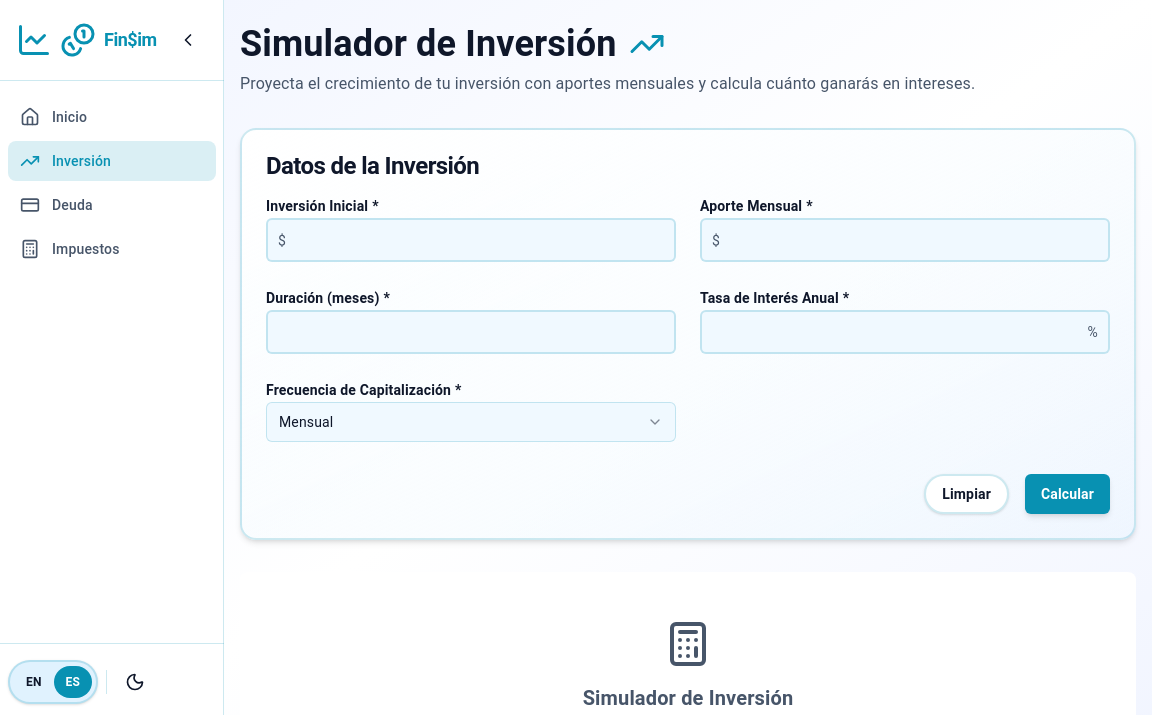
Test: Investment Flow Integration › shows results and breakdown after successful calculation
The width and height of the screenshot is (1152, 715).
Type "10000" into the number field labelled "Inversión Inicial*" at (471, 240), box 266,218 -> 676,262
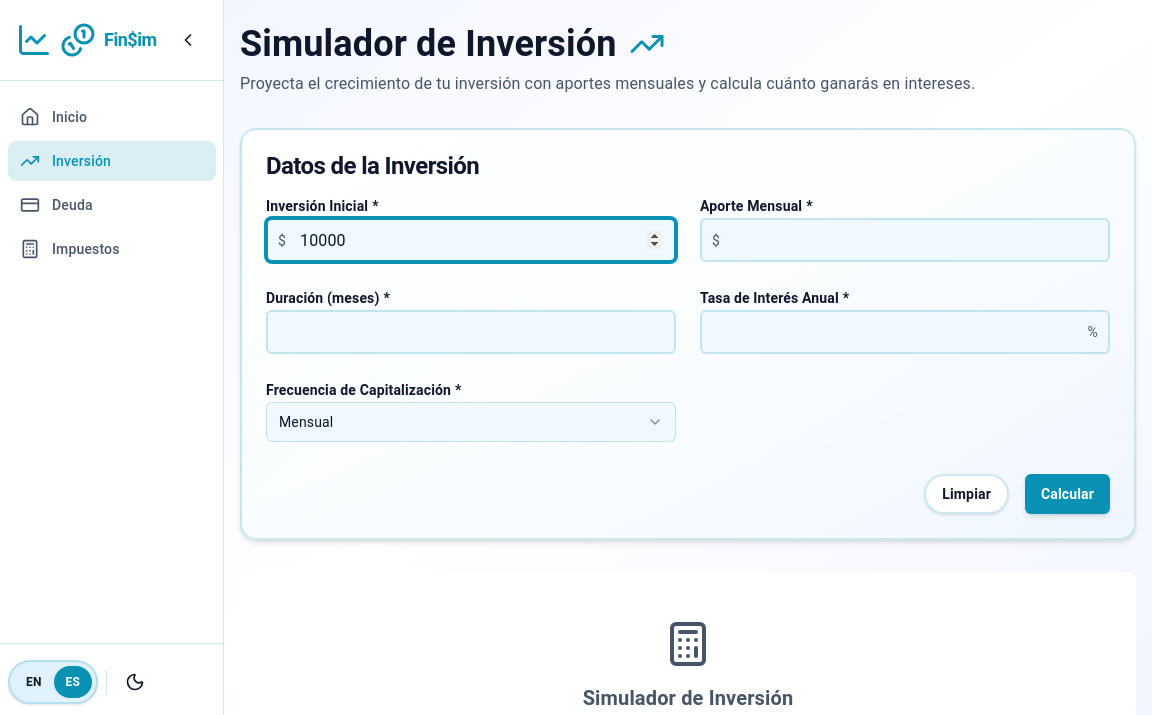
Type "500" into the number field labelled "Aporte Mensual*" at (905, 240), box 700,218 -> 1110,262
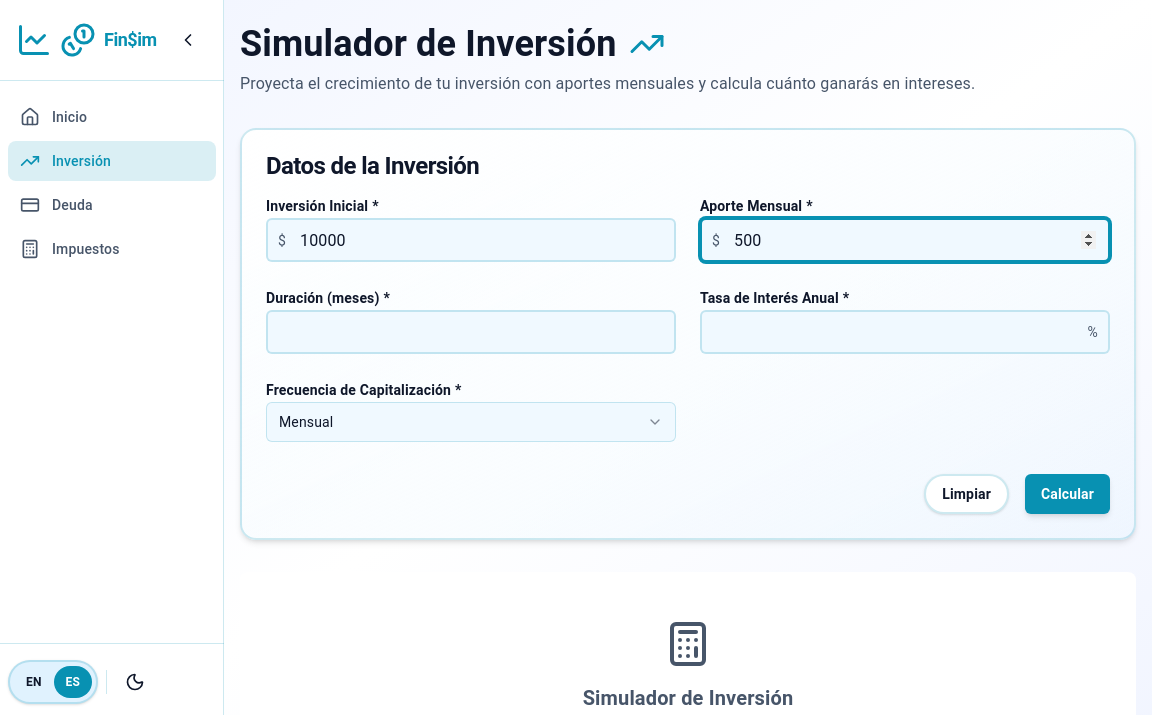
Type "60" into the number field labelled "Duración (meses)*" at (471, 332), box 266,310 -> 676,354
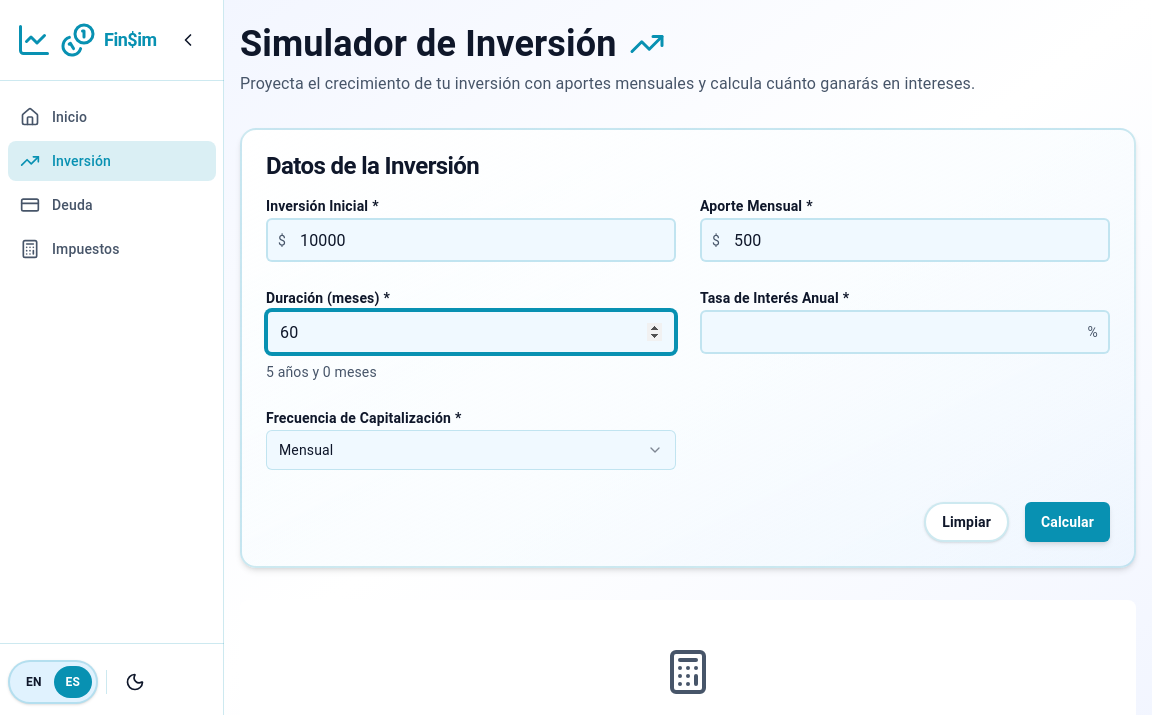
Type "7" into the number field labelled "Tasa de Interés Anual*" at (905, 332), box 700,310 -> 1110,354
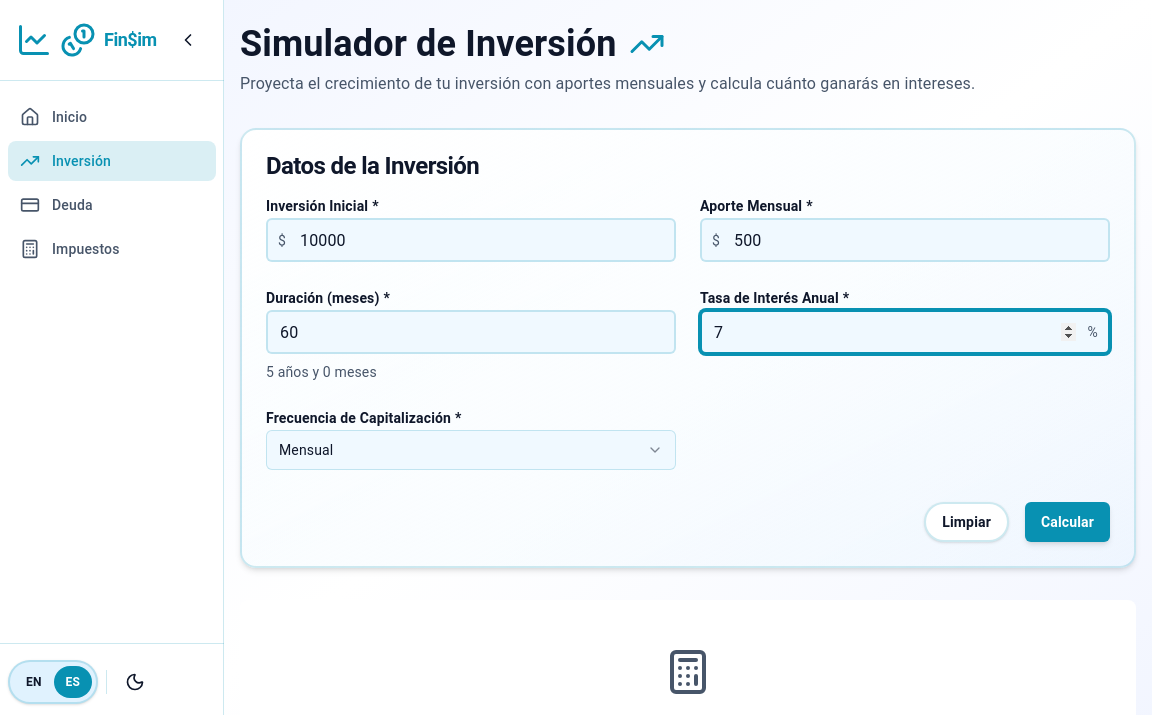
Click the button "Calcular" at (1067, 522), box 1025,502 -> 1110,542
(page scrolled)
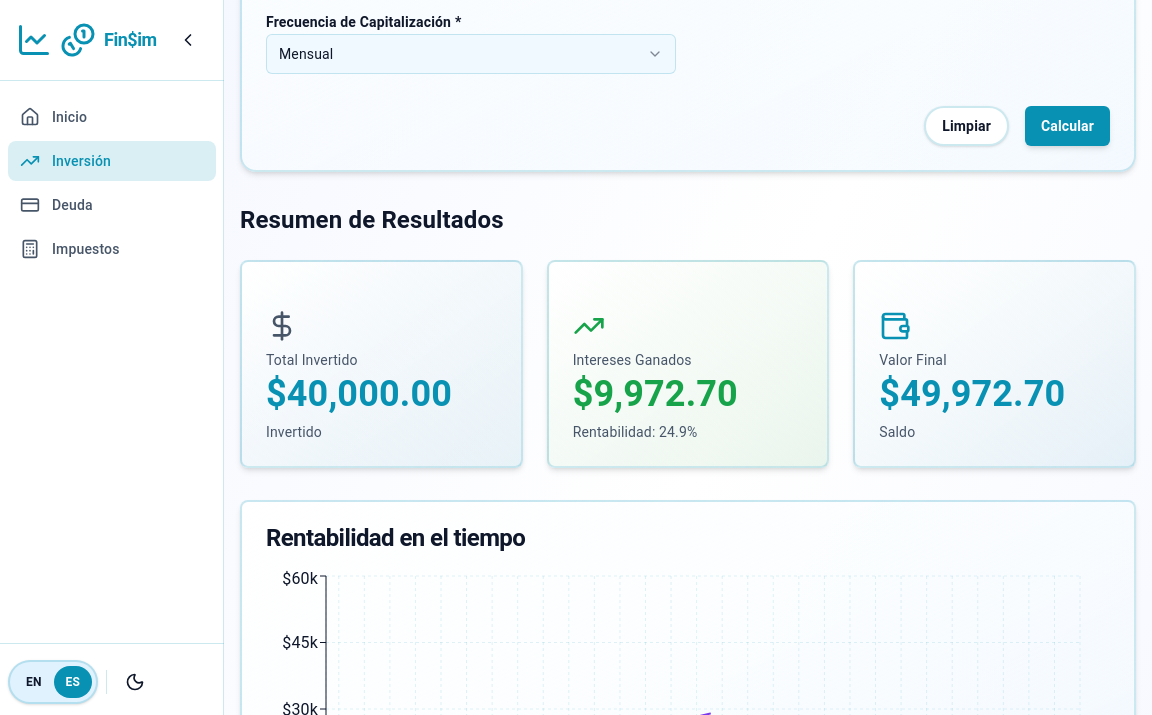
Check: the heading "Resumen de Resultados" is shown, box 240,206 -> 504,234
Check: the text "Intereses Ganados" is shown, box 573,352 -> 692,368
